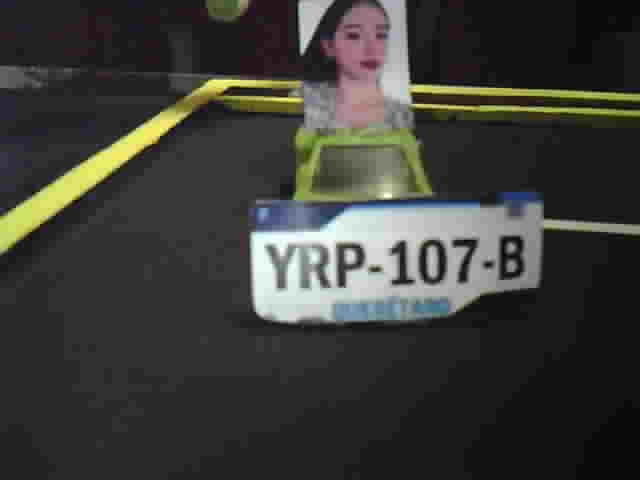PLACA: (248, 189, 546, 327)
ROSTRO: (300, 3, 413, 132)
